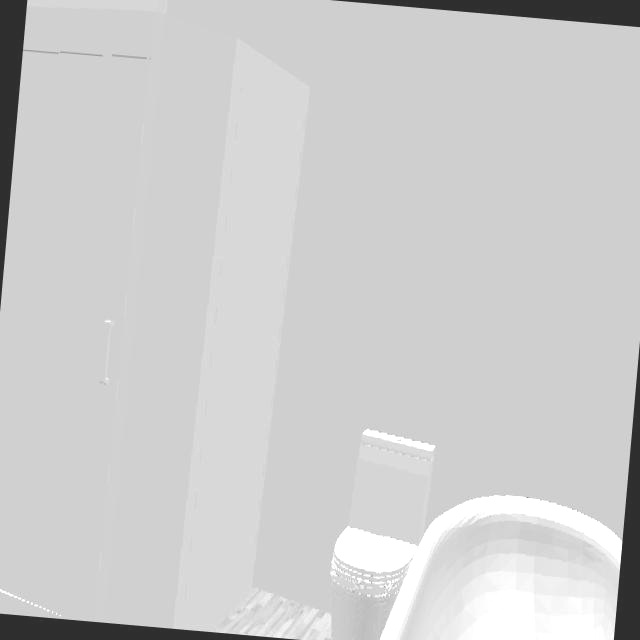bathtube: (376, 496, 622, 640)
shower: (0, 7, 310, 632)
toilet: (330, 430, 436, 640)
